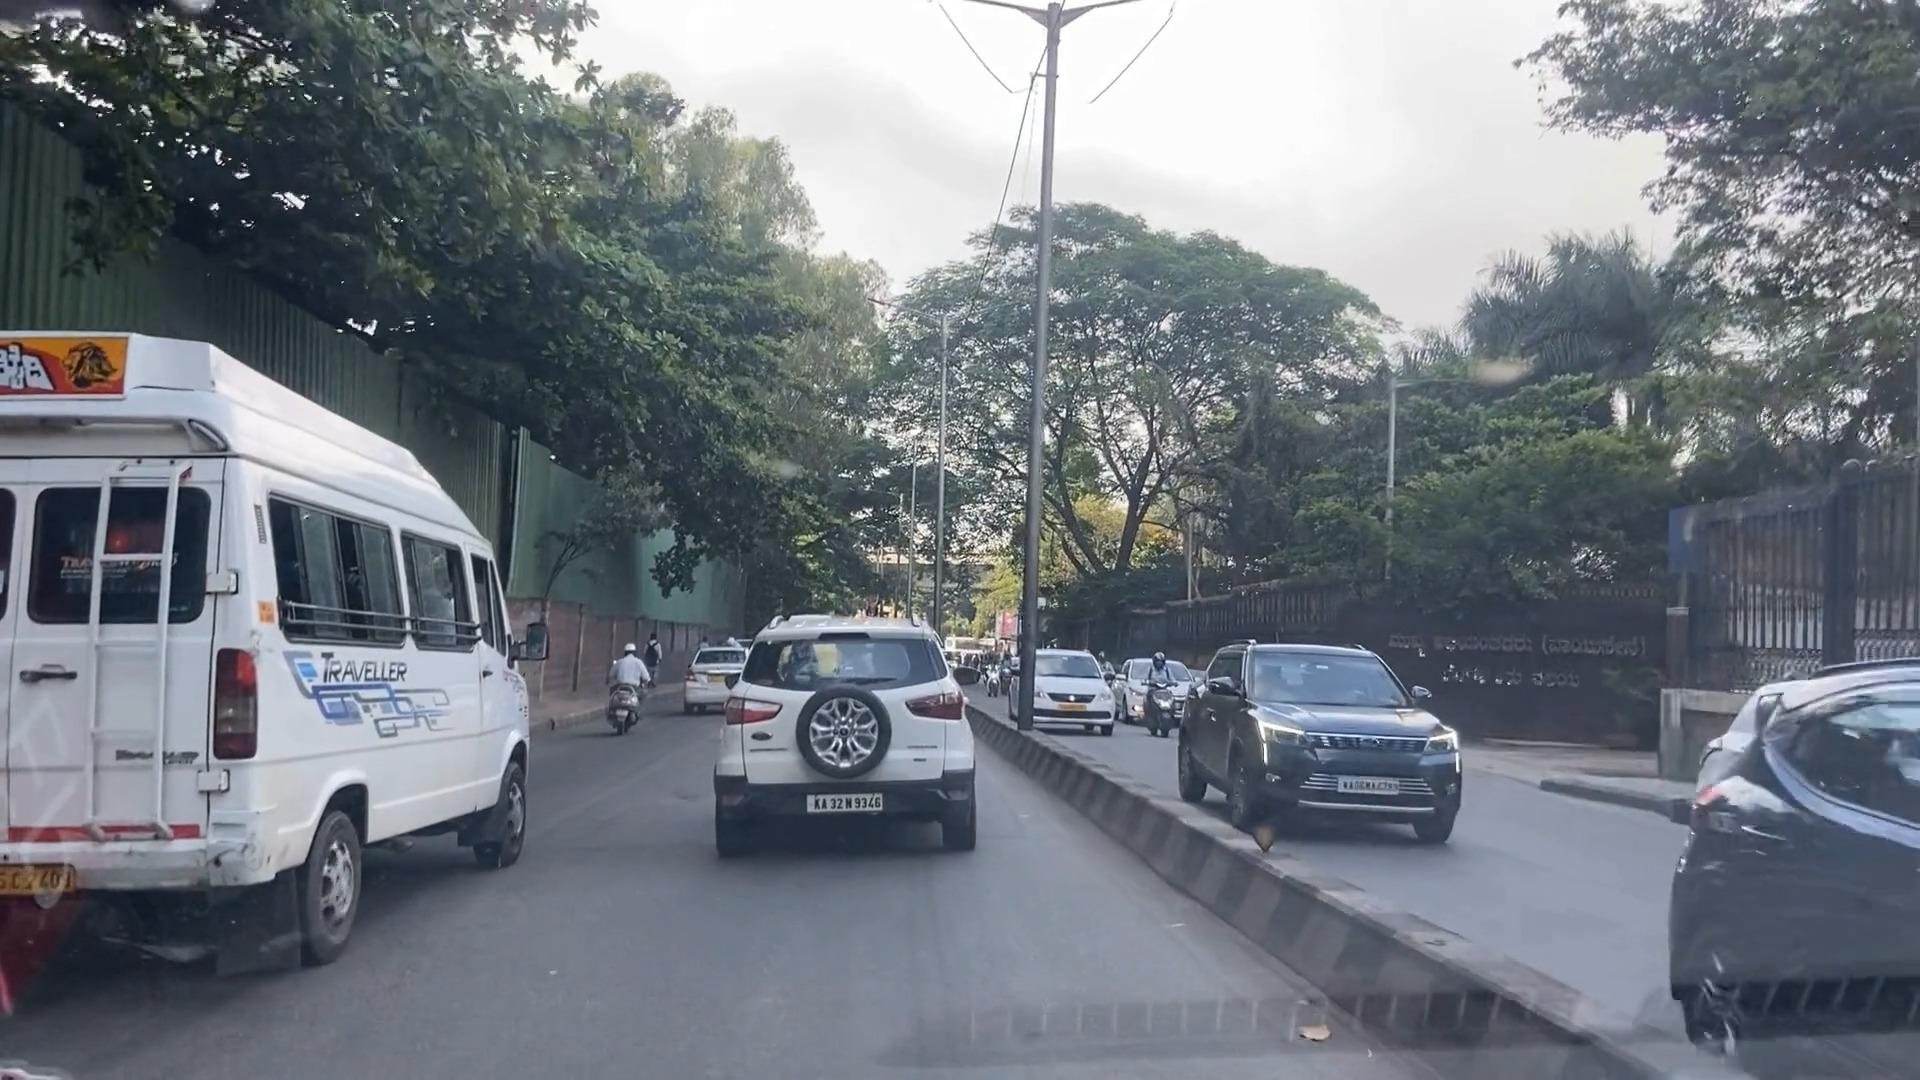HMV: (0, 338, 551, 922)
LMV: (717, 608, 973, 858)
